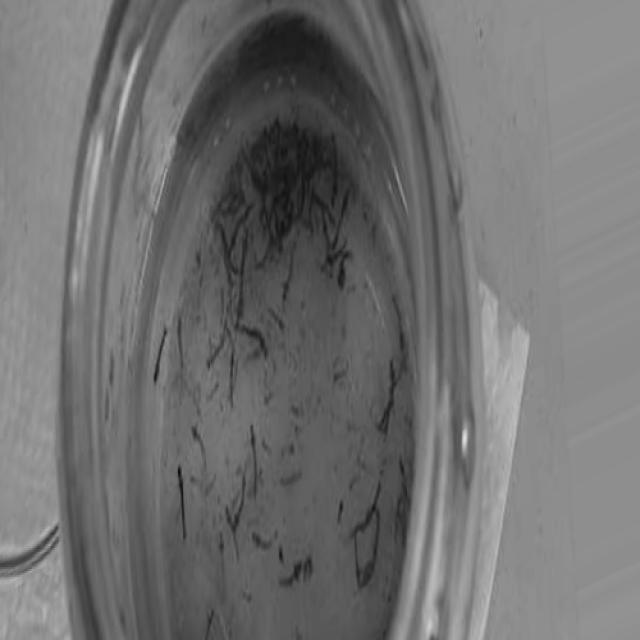larvas: (230, 207, 251, 270), (330, 188, 354, 241), (365, 503, 382, 574), (399, 460, 414, 537), (356, 488, 384, 528), (242, 140, 262, 190), (236, 236, 248, 319), (226, 325, 238, 408), (177, 469, 190, 542), (281, 243, 298, 298), (350, 534, 367, 585), (151, 329, 167, 382), (242, 323, 268, 355), (208, 326, 227, 367), (219, 220, 232, 278), (226, 509, 241, 558), (218, 530, 227, 599), (250, 426, 259, 494), (338, 248, 354, 286), (386, 362, 395, 429), (315, 192, 335, 222), (394, 296, 405, 348), (192, 426, 207, 464), (281, 564, 302, 589), (325, 238, 345, 264), (331, 352, 349, 380), (256, 239, 274, 267), (237, 472, 247, 520), (252, 531, 276, 550), (275, 210, 293, 234), (176, 321, 186, 364), (278, 469, 304, 485), (267, 215, 279, 247), (297, 178, 306, 218), (268, 308, 284, 330), (192, 384, 203, 416), (331, 133, 336, 203), (203, 609, 215, 638), (212, 194, 228, 215), (205, 382, 220, 402), (322, 200, 328, 234)
